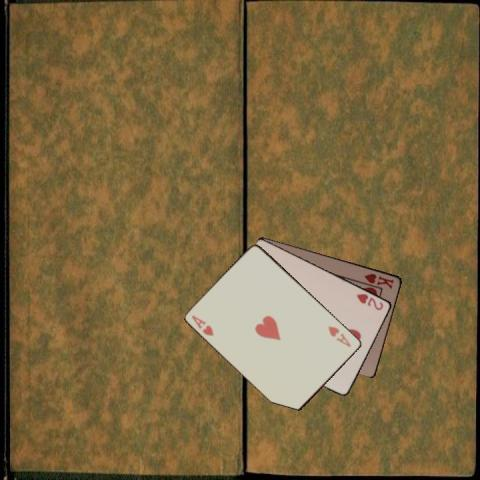2h: (354, 291, 385, 311)
Ah: (325, 322, 353, 348), (189, 312, 215, 337)
Kh: (361, 271, 395, 290)
